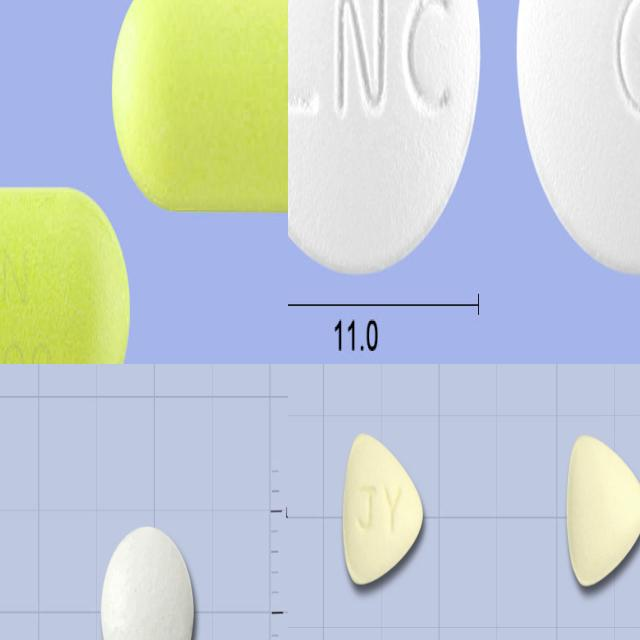Durova: (341, 430, 424, 587), (565, 433, 640, 587)
Leprosin: (101, 526, 195, 640)
Mega Ciflox: (288, 0, 482, 272), (516, 0, 640, 275)
New Clato Tab-500mg: (111, 0, 288, 209), (0, 185, 130, 364)
